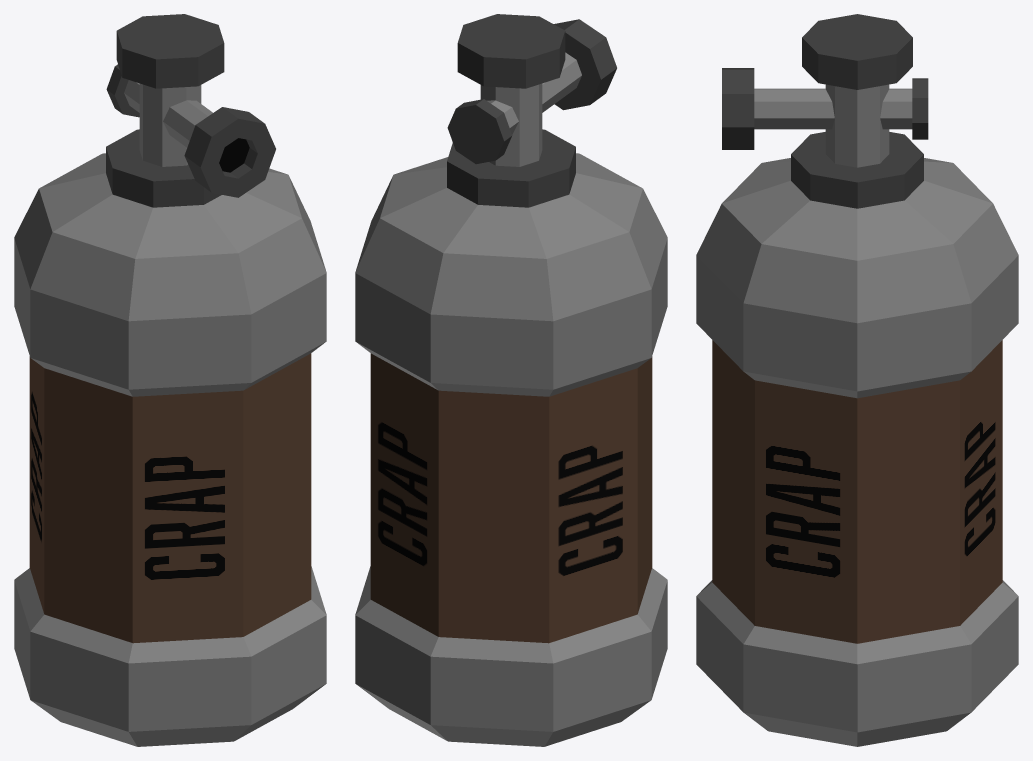
The model's file is CD_Canister_Shit_v1.glb.
3 renders of one model, left to right at view 1: azimuth 30°, elevation 25°; view 2: azimuth 150°, elevation 25°; view 3: azimuth 270°, elevation 25°, orthographic.
Visible parts, largest first — view 1: Canister, LittleThingAtTheTopIDK; view 2: Canister, LittleThingAtTheTopIDK; view 3: Canister, LittleThingAtTheTopIDK.
Part boxes in pixels (<box>): Canister: <box>14,14,326,746</box>; LittleThingAtTheTopIDK: <box>106,64,275,197</box>; Canister: <box>355,14,667,746</box>; LittleThingAtTheTopIDK: <box>447,19,616,164</box>; Canister: <box>696,14,1018,746</box>; LittleThingAtTheTopIDK: <box>722,68,928,149</box>.
Bounding box in the file's own units: 2 × 4.49 × 2.
7 materials, 1 textured.
